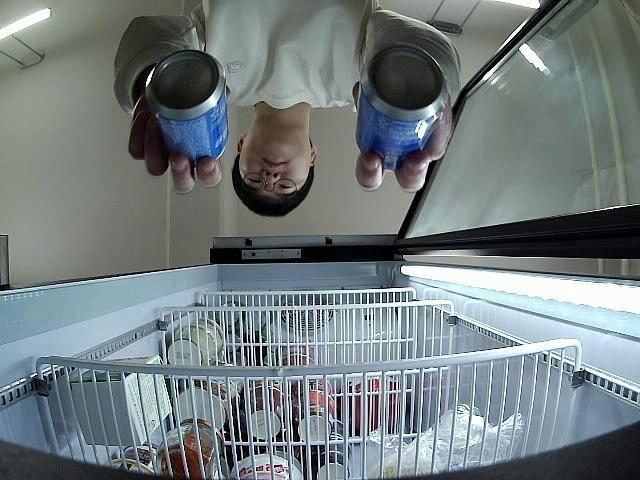15_letsbe: (355, 44, 446, 172), (144, 49, 229, 166)
